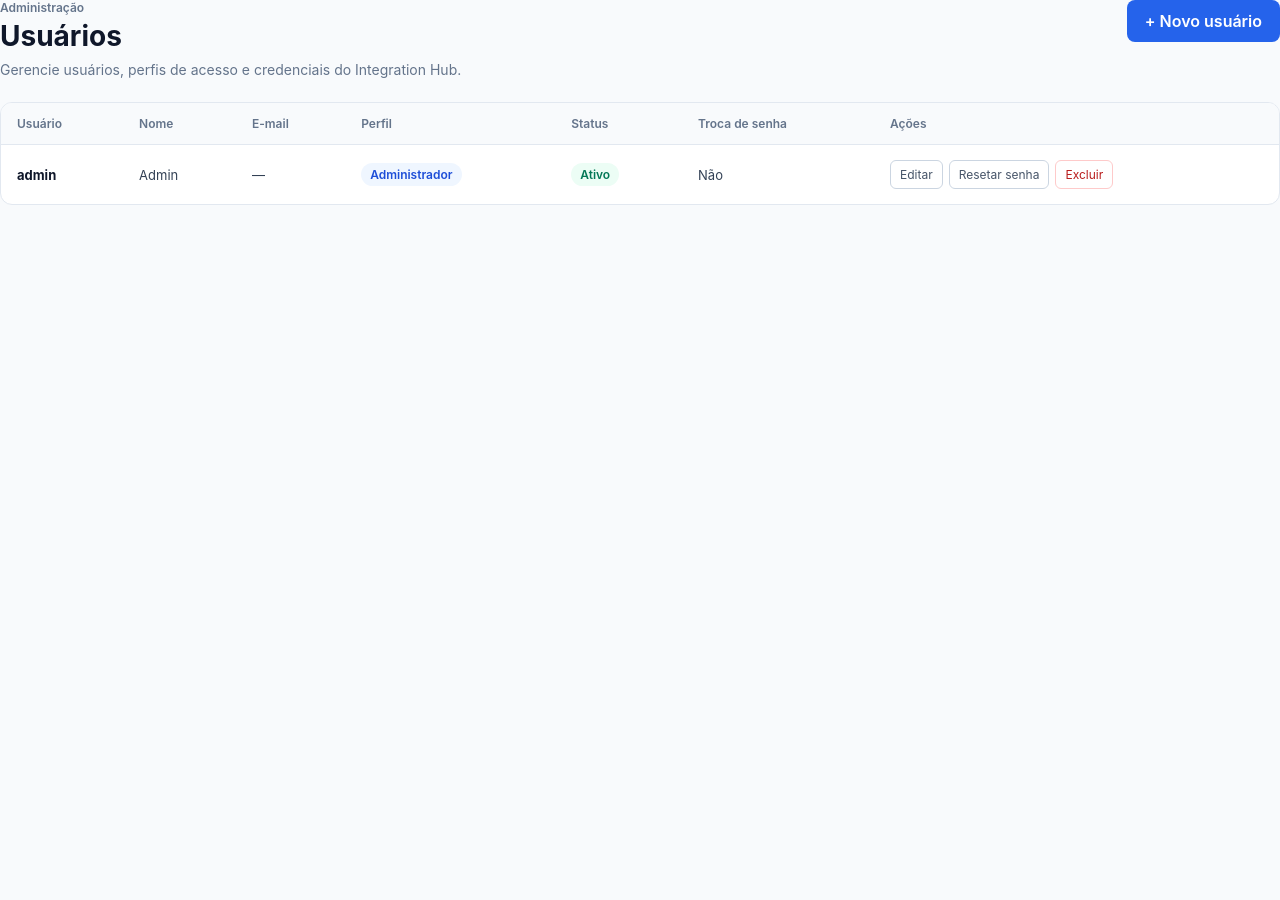
it: UsersPage › não executa a exclusão ao cancelar a confirmação
The image size is (1280, 900).
Expected: the text "admin" is shown, [17, 166, 56, 182]
Click the button "Excluir": {"x": 1084, "y": 174} [1055, 160, 1113, 189]
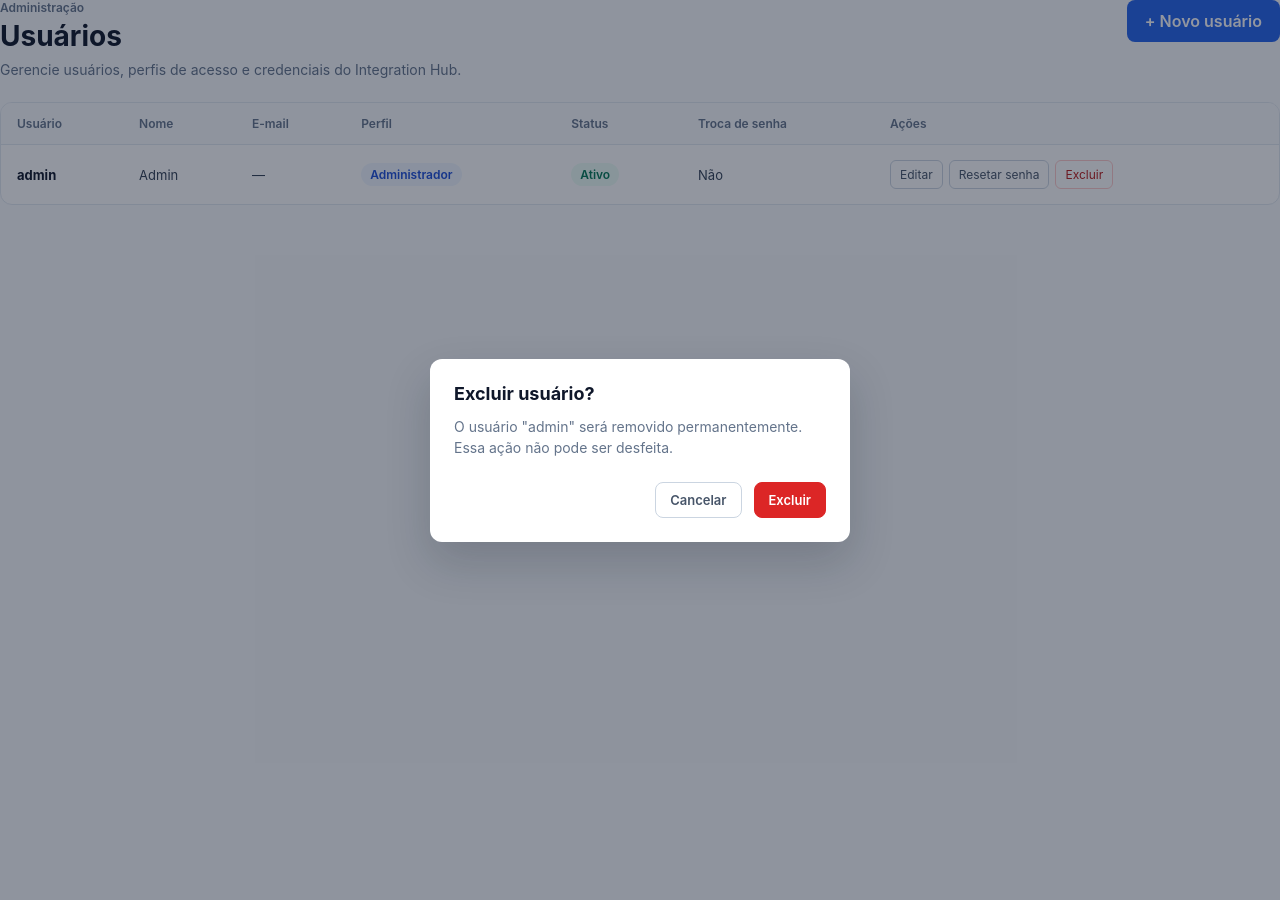
Click the button "Cancelar": {"x": 698, "y": 500} [655, 482, 742, 518]
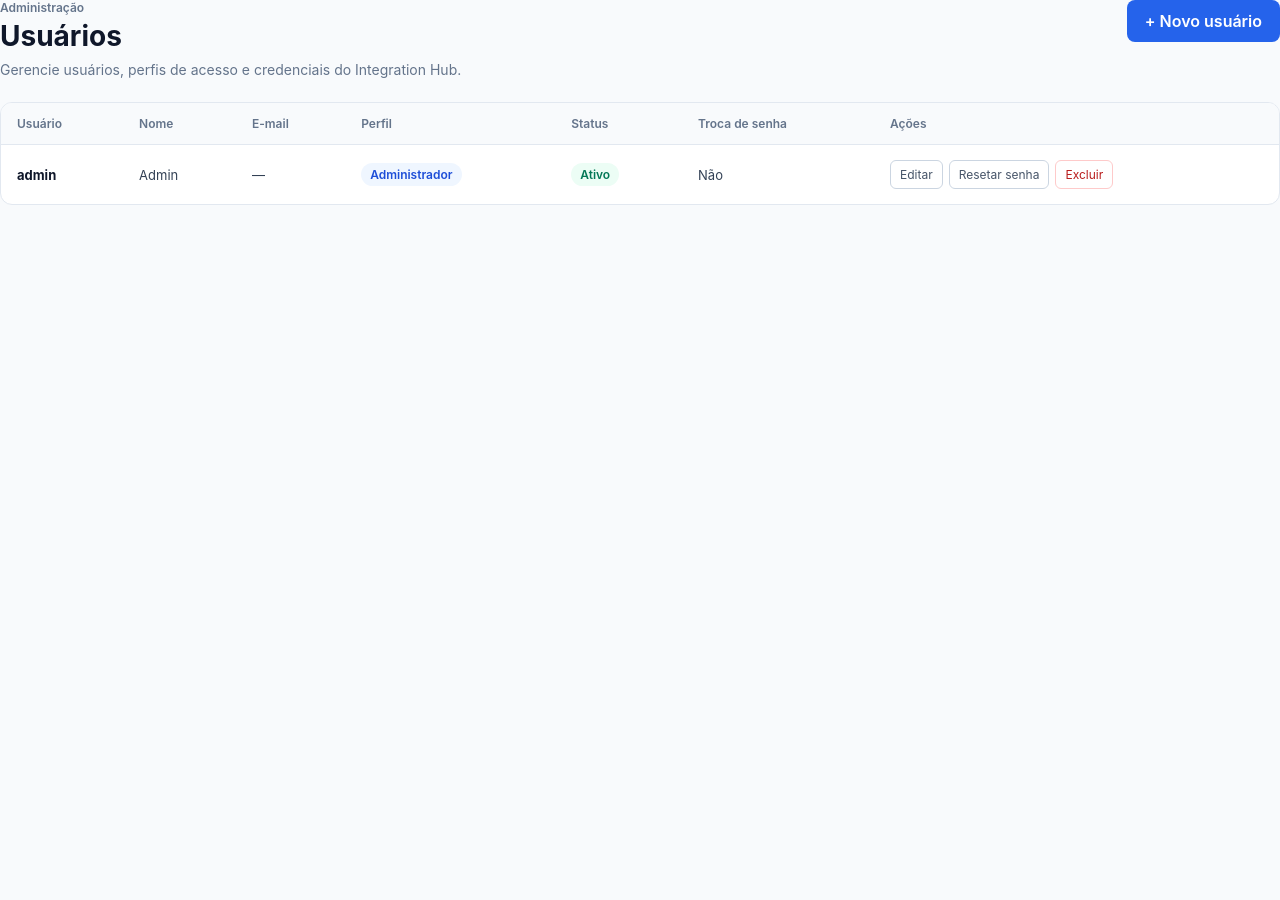
Expected: the dialog is gone
